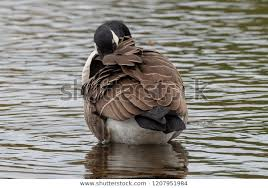goose: (78, 18, 189, 152)
